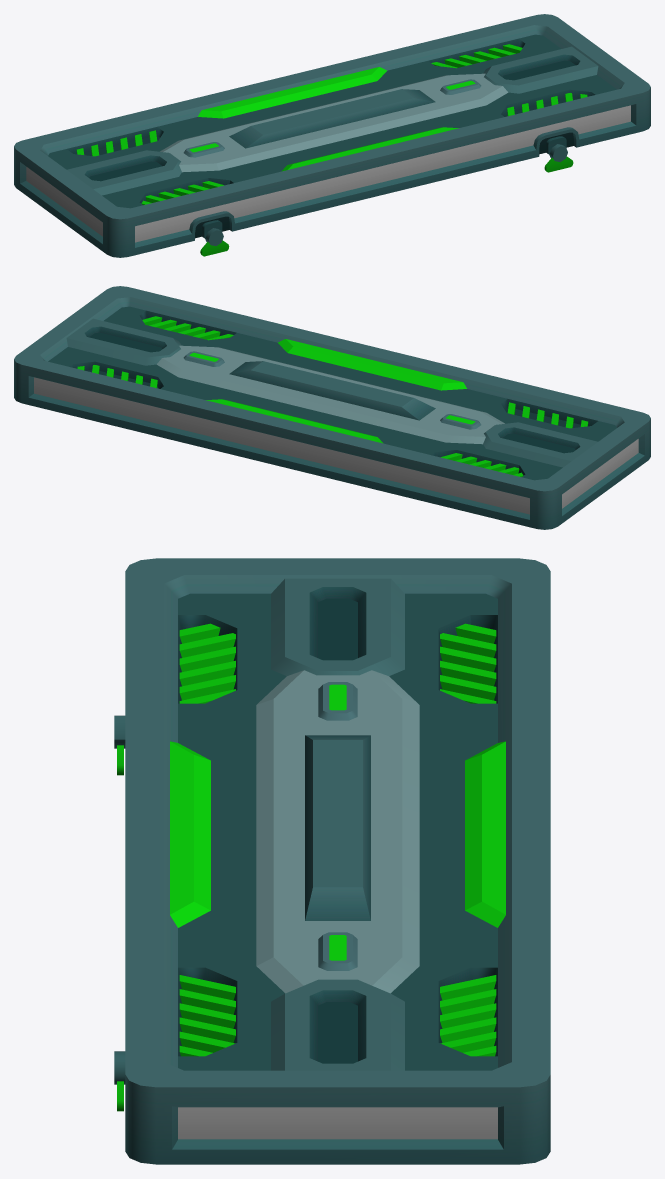
File: Container_04_Cap.fbx
3 views of the same model, one above another, from view 1: azimuth 30°, elevation 25°; view 2: azimuth 150°, elevation 25°; view 3: azimuth 270°, elevation 25° (orthographic). The views are drawn at different scales.
Parts seen in each view (by area): view 1: Container_04_Cap; view 2: Container_04_Cap; view 3: Container_04_Cap.
Part boxes in pixels (x1,y1,x2,y2): Container_04_Cap: [14, 14, 650, 257]; Container_04_Cap: [14, 286, 650, 529]; Container_04_Cap: [114, 558, 550, 1164].
Bounding box in the file's own units: 132 × 13.86 × 46.19.
